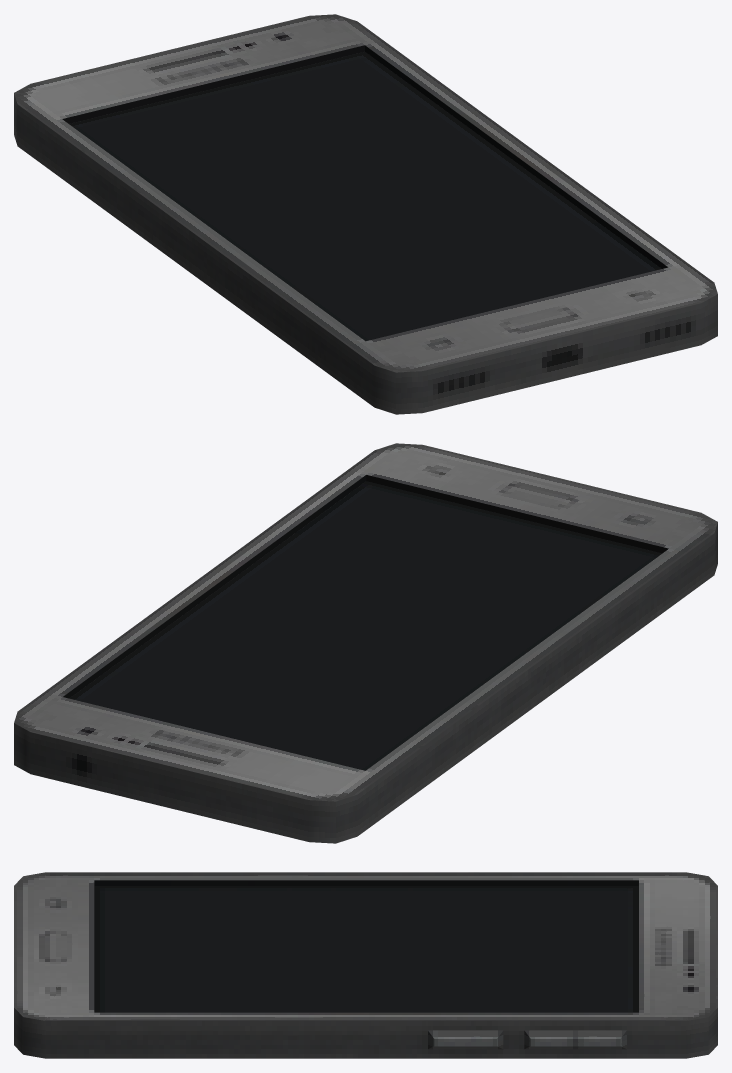
Rendered from smartphone_mp_1.glb.
3 renders of one model, top to bottom at view 1: azimuth 30°, elevation 25°; view 2: azimuth 150°, elevation 25°; view 3: azimuth 270°, elevation 25°, orthographic. The views are drawn at different scales.
Visible parts, largest first — view 1: smartphone_mp_1; view 2: smartphone_mp_1; view 3: smartphone_mp_1.
Part boxes in pixels (<box>): smartphone_mp_1: <box>14,14,717,414</box>; smartphone_mp_1: <box>14,443,717,843</box>; smartphone_mp_1: <box>14,872,717,1058</box>.
Size of the model in its own units: 0.112 by 0.013 by 0.22.
Materials: 1 (1 with a texture image).
